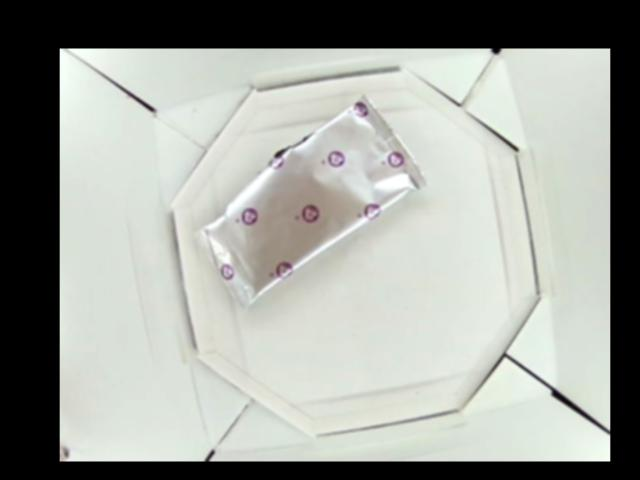Medicine: (191, 90, 427, 310)
